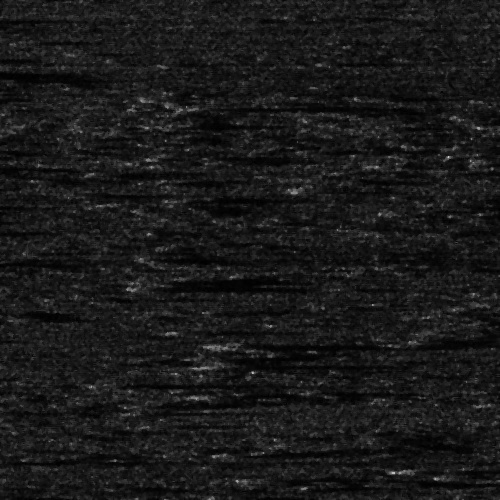object: (133, 338, 330, 355), (88, 281, 181, 294), (174, 100, 247, 113), (384, 468, 437, 473), (70, 381, 123, 386), (168, 195, 209, 200), (477, 398, 500, 405), (210, 355, 221, 368), (114, 409, 155, 412), (216, 495, 247, 498), (199, 389, 210, 396), (173, 329, 194, 332)
shadow: (211, 100, 430, 113), (232, 338, 395, 355), (216, 355, 377, 368), (135, 281, 288, 294), (205, 389, 363, 396), (0, 155, 41, 176), (97, 381, 248, 386), (0, 66, 57, 79), (189, 195, 298, 200), (156, 278, 310, 281), (0, 14, 49, 23), (411, 468, 497, 473), (232, 495, 353, 498), (184, 329, 303, 332), (135, 409, 250, 412), (238, 449, 278, 452), (0, 55, 18, 60)
